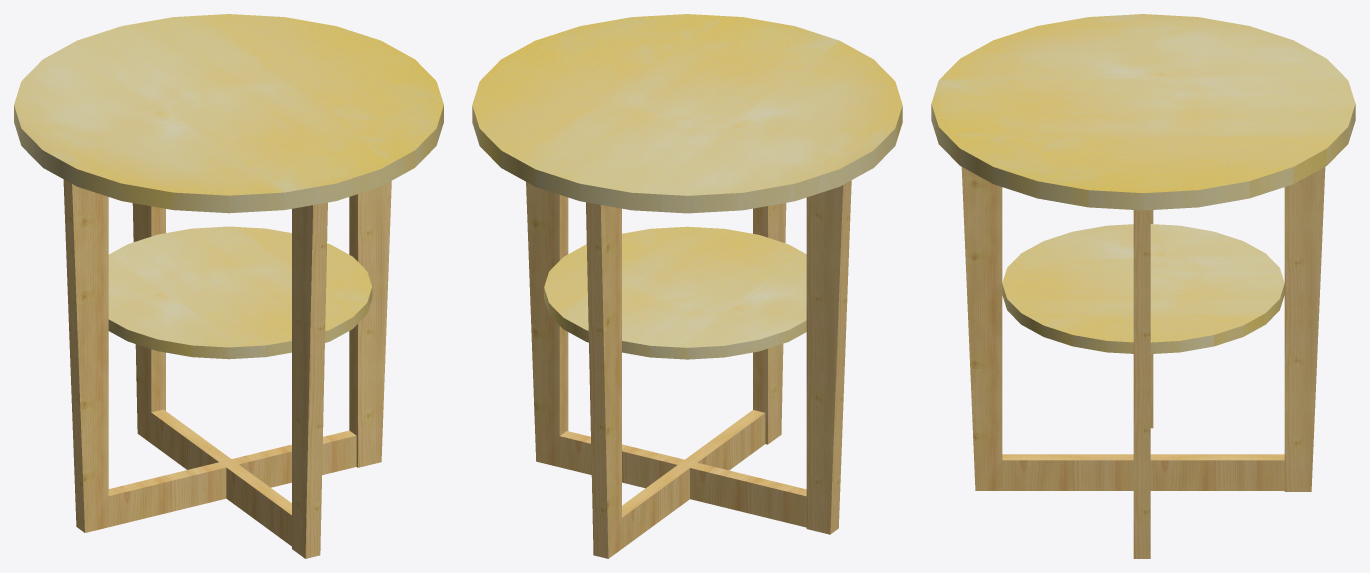
The model's file is vejmon_table_2_obj0_object.obj.
3 renders of one model, left to right at view 1: azimuth 30°, elevation 25°; view 2: azimuth 150°, elevation 25°; view 3: azimuth 270°, elevation 25°, orthographic.
Parts seen in each view (by area): view 1: Mesh7 Group1 Model, Mesh5 Group1 Model, Mesh1 Group2 Group1 Model, Mesh6 Group1 Model, Mesh4 Group5 Group1 Model, Mesh3 Group4 Group1 Model, Mesh2 Group3 Group1 Model; view 2: Mesh7 Group1 Model, Mesh5 Group1 Model, Mesh1 Group2 Group1 Model, Mesh6 Group1 Model, Mesh2 Group3 Group1 Model, Mesh3 Group4 Group1 Model, Mesh4 Group5 Group1 Model; view 3: Mesh7 Group1 Model, Mesh5 Group1 Model, Mesh2 Group3 Group1 Model, Mesh4 Group5 Group1 Model, Mesh6 Group1 Model, Mesh3 Group4 Group1 Model.
Part boxes in pixels (left/top/right/bottom): Mesh7 Group1 Model: left=14, top=14, right=443, bottom=213; Mesh5 Group1 Model: left=108, top=226, right=372, bottom=359; Mesh1 Group2 Group1 Model: left=63, top=179, right=108, bottom=532; Mesh6 Group1 Model: left=108, top=409, right=356, bottom=546; Mesh4 Group5 Group1 Model: left=292, top=202, right=327, bottom=558; Mesh3 Group4 Group1 Model: left=349, top=181, right=391, bottom=467; Mesh2 Group3 Group1 Model: left=132, top=203, right=165, bottom=443; Mesh7 Group1 Model: left=472, top=14, right=902, bottom=213; Mesh5 Group1 Model: left=544, top=226, right=806, bottom=359; Mesh1 Group2 Group1 Model: left=806, top=180, right=851, bottom=534; Mesh6 Group1 Model: left=559, top=410, right=806, bottom=548; Mesh2 Group3 Group1 Model: left=586, top=202, right=621, bottom=558; Mesh3 Group4 Group1 Model: left=526, top=182, right=568, bottom=467; Mesh4 Group5 Group1 Model: left=753, top=203, right=786, bottom=444; Mesh7 Group1 Model: left=931, top=14, right=1355, bottom=210; Mesh5 Group1 Model: left=1002, top=224, right=1284, bottom=353; Mesh2 Group3 Group1 Model: left=1284, top=167, right=1325, bottom=491; Mesh4 Group5 Group1 Model: left=961, top=167, right=1002, bottom=490; Mesh6 Group1 Model: left=1002, top=454, right=1284, bottom=490; Mesh3 Group4 Group1 Model: left=1133, top=210, right=1150, bottom=558.
Size of the model in its own units: 23.62 by 23.62 by 23.62.
2 materials, 2 textured.
